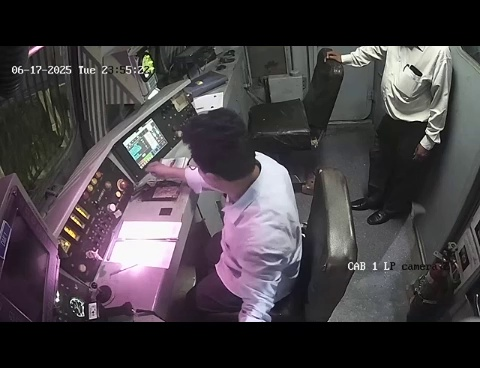horn_inactive: (83, 274, 119, 309)
